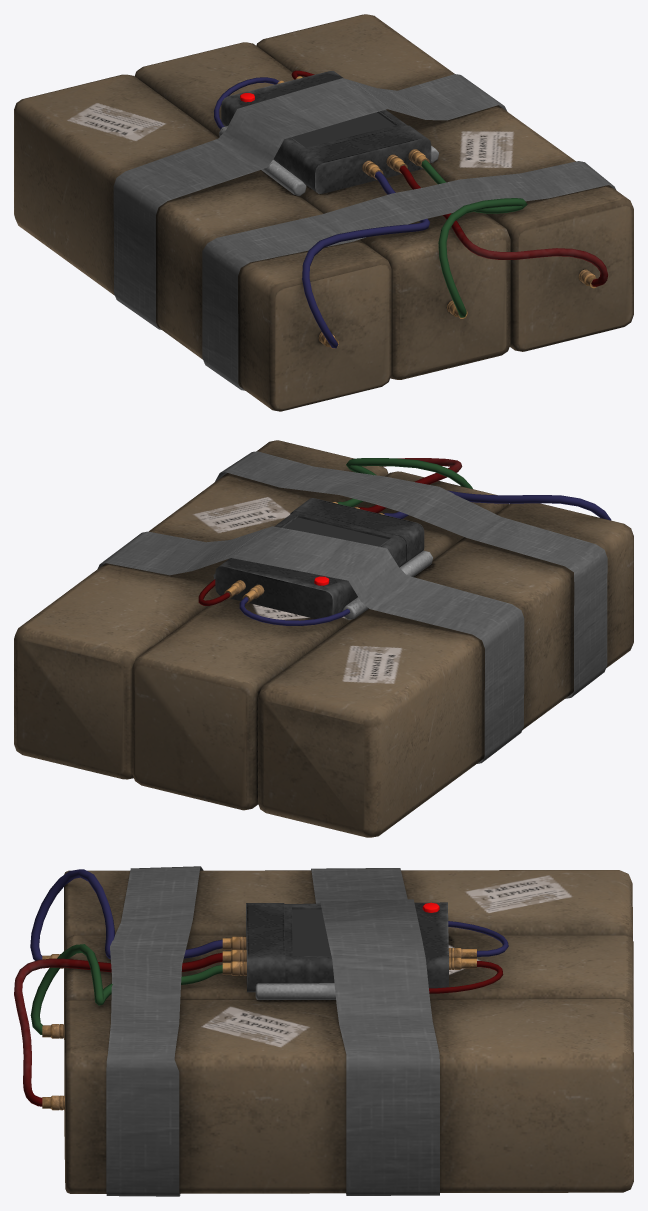
Rendered from Sticky_Bomb_WM.fbx.
3 renders of one model, top to bottom at view 1: azimuth 30°, elevation 25°; view 2: azimuth 150°, elevation 25°; view 3: azimuth 270°, elevation 25°, orthographic. The views are drawn at different scales.
Parts seen in each view (by area): view 1: wires; view 2: wires; view 3: wires.
Part boxes in pixels (x1,y1,x2,y2): wires: (14,14,633,411); wires: (14,440,633,837); wires: (14,866,633,1196).
Size of the model in its own units: 609 by 254 by 807.
